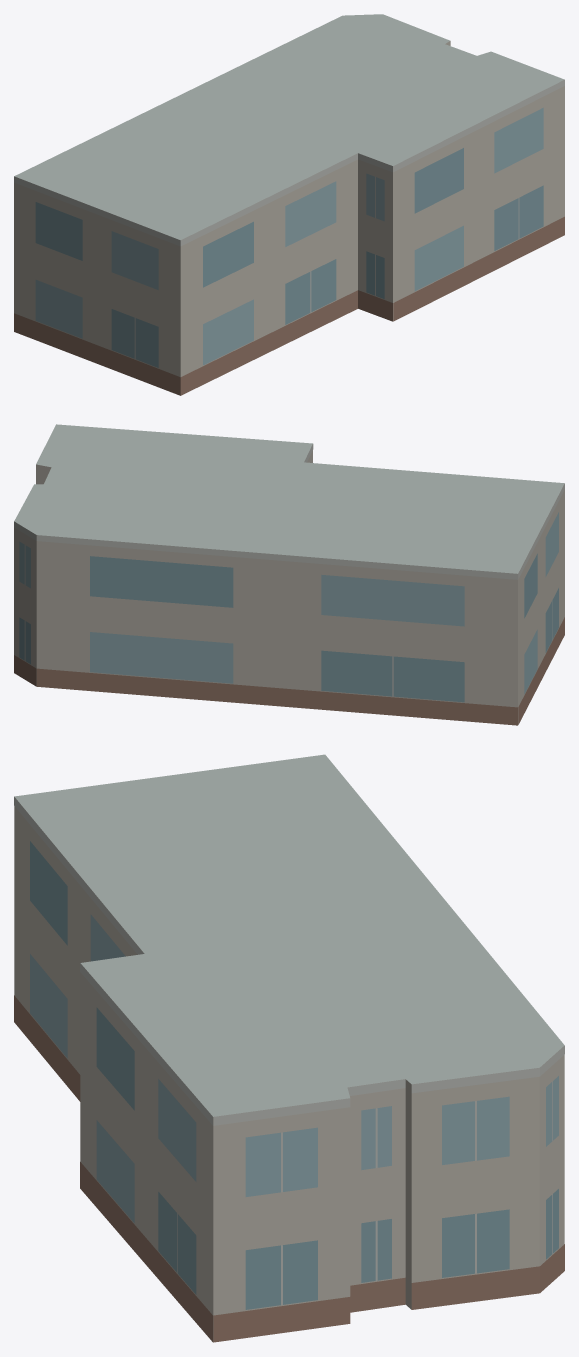
File: survey-upis-32581393.glb
3 renders of one model, top to bottom at view 1: azimuth 30°, elevation 25°; view 2: azimuth 150°, elevation 25°; view 3: azimuth 270°, elevation 25°, orthographic. The views are drawn at different scales.
Visible parts, largest first — view 1: survey-upis-32581393.tmp; view 2: survey-upis-32581393.tmp; view 3: survey-upis-32581393.tmp.
Part boxes in pixels (x1,y1,x2,y2): survey-upis-32581393.tmp: (14,14,564,395); survey-upis-32581393.tmp: (14,424,564,725); survey-upis-32581393.tmp: (14,754,564,1342).
Bounding box in the file's own units: 21.03 × 6.1 × 13.51.
